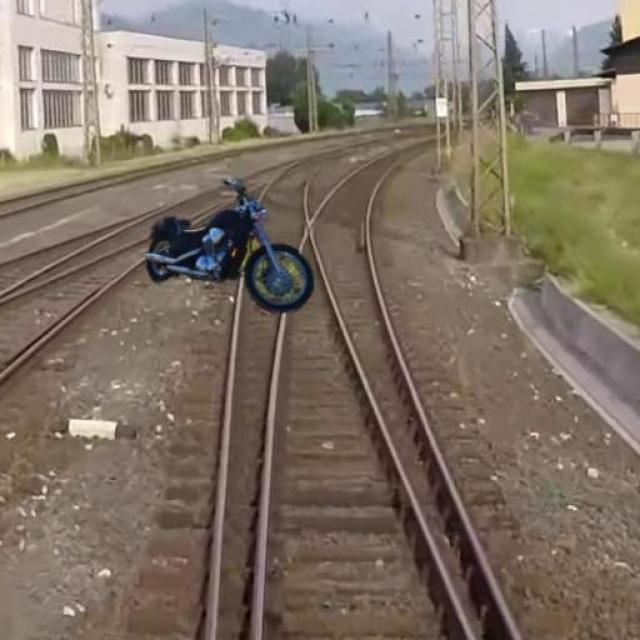vehicle: (140, 180, 330, 313)
